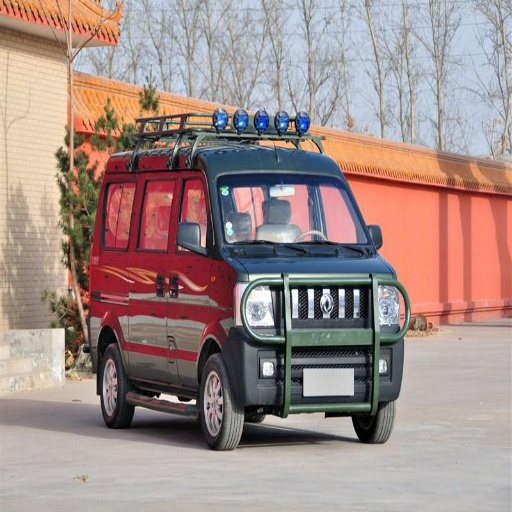front_bumper: (284, 267, 375, 324), (244, 351, 277, 404)
front_glass: (234, 177, 362, 245)
front_left_door: (130, 309, 175, 380)
front_right_light: (243, 284, 276, 336)
hood: (310, 244, 376, 283)
trunk: (93, 150, 259, 363), (290, 321, 367, 369)
